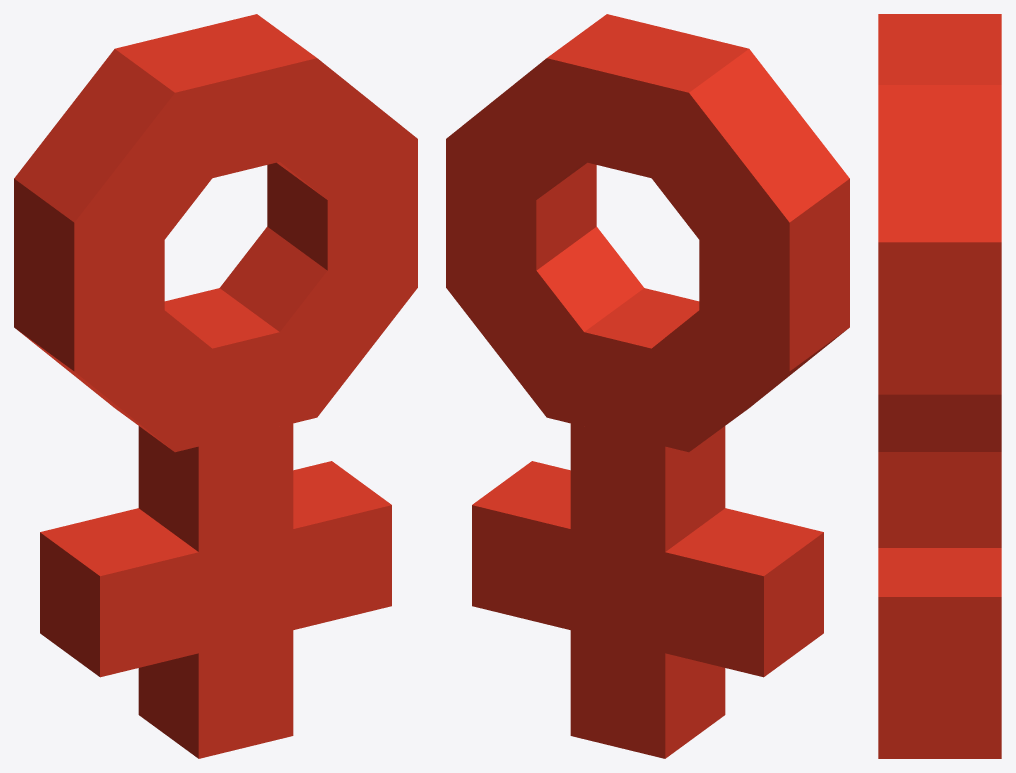
File: Icon_Gender_02.fbx
3 views of the same model, side by side, from view 1: azimuth 30°, elevation 25°; view 2: azimuth 150°, elevation 25°; view 3: azimuth 270°, elevation 25° (orthographic). The views are drawn at different scales.
Visible parts, largest first — view 1: Icon_Gender_02; view 2: Icon_Gender_02; view 3: Icon_Gender_02.
Part boxes in pixels (x1=…): Icon_Gender_02: x1=14, y1=14, x2=417, y2=758; Icon_Gender_02: x1=446, y1=14, x2=849, y2=758; Icon_Gender_02: x1=878, y1=14, x2=1001, y2=758.
Size of the model in its own units: 39.71 by 74.22 by 12.06.
